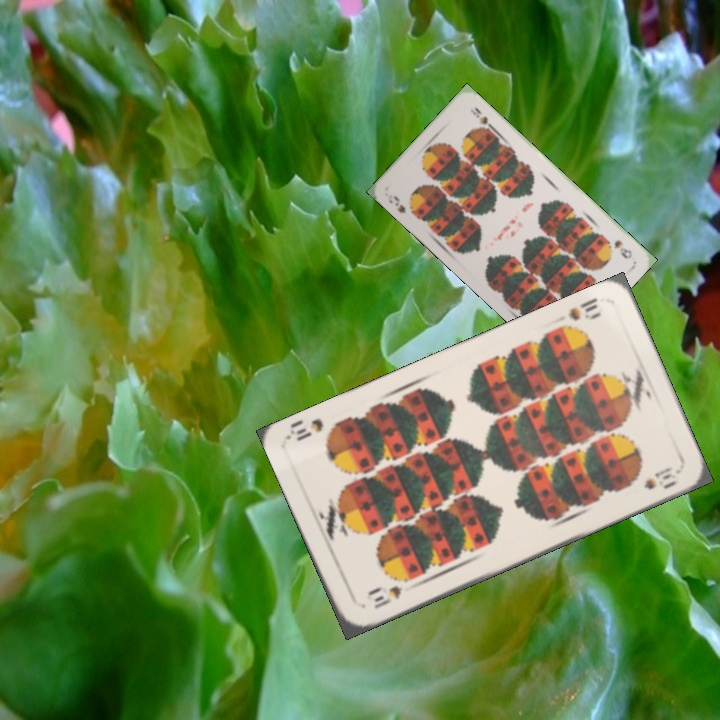S10: (564, 293, 604, 324), (363, 582, 404, 612)
S9: (389, 191, 418, 219), (610, 235, 635, 261)
